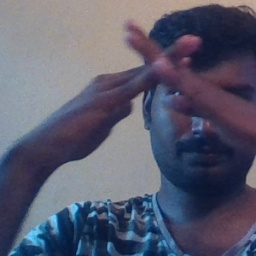W: (96, 15, 225, 124)
